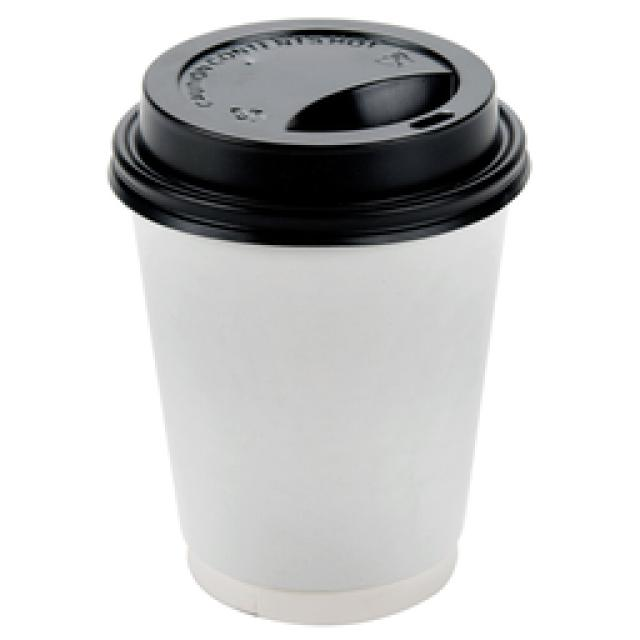paper_cups: (111, 11, 532, 624)
